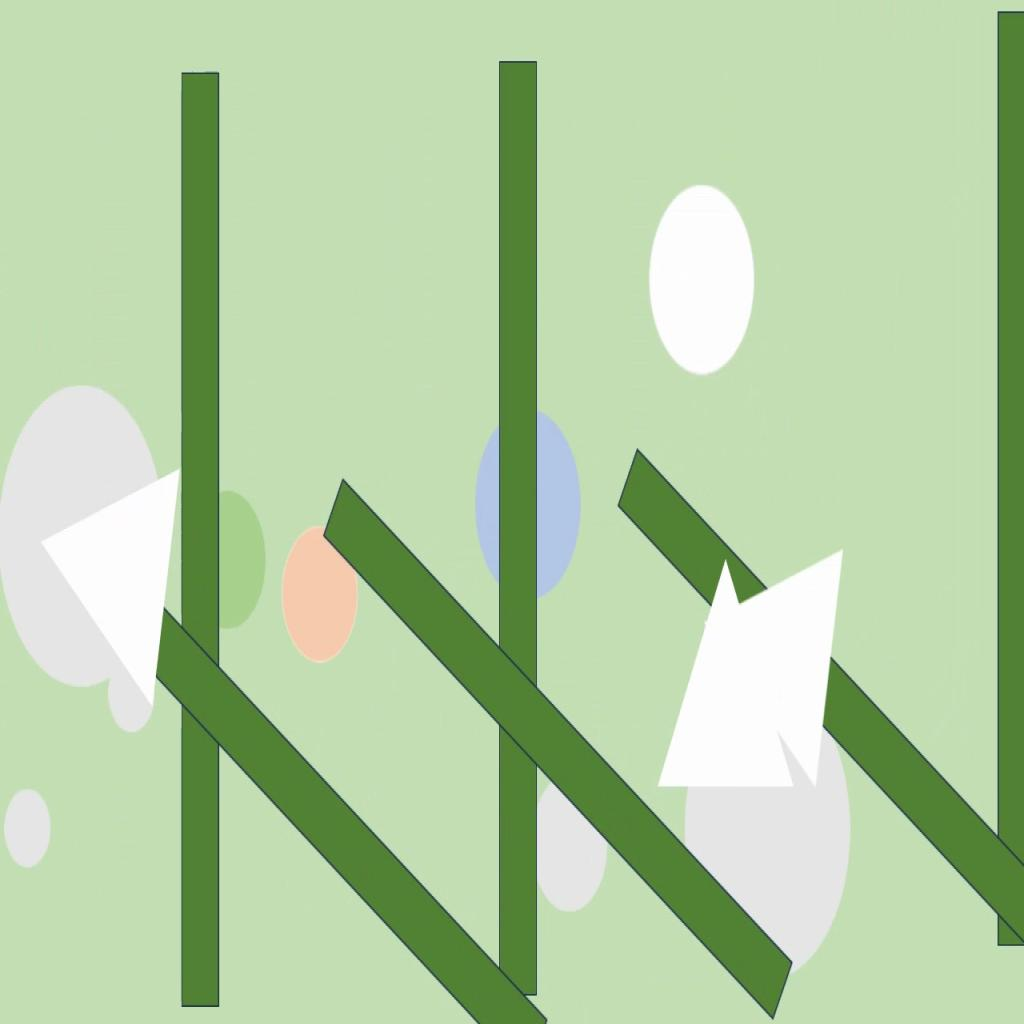Circle: (0, 382, 165, 687), (683, 689, 852, 976), (474, 411, 585, 600), (649, 179, 755, 375), (525, 775, 607, 914), (192, 489, 265, 630), (284, 521, 359, 658), (3, 786, 51, 869), (106, 658, 155, 738)
